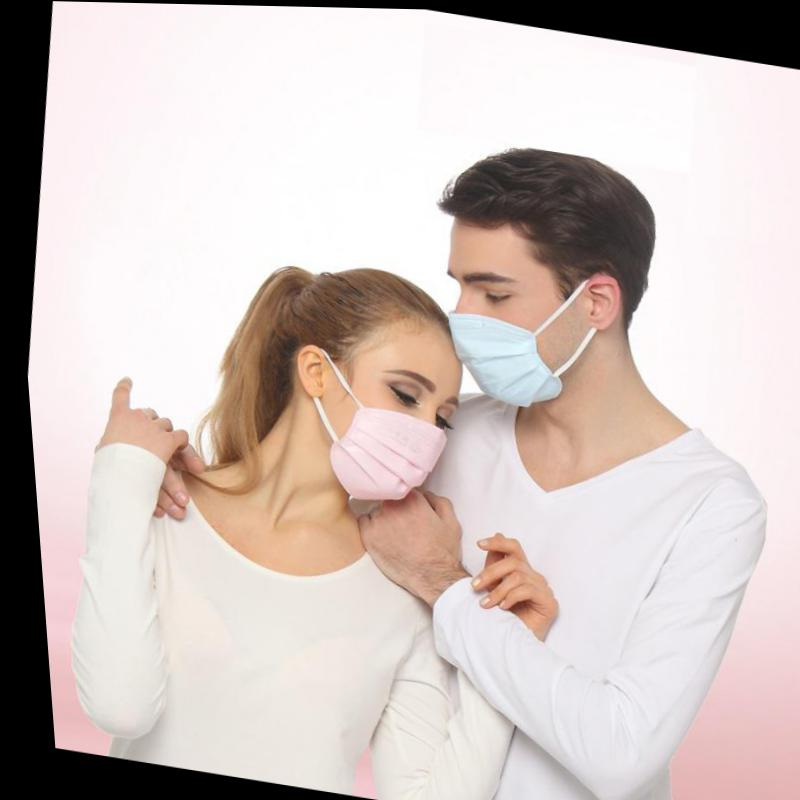OK: (310, 316, 468, 513), (422, 235, 573, 412)
